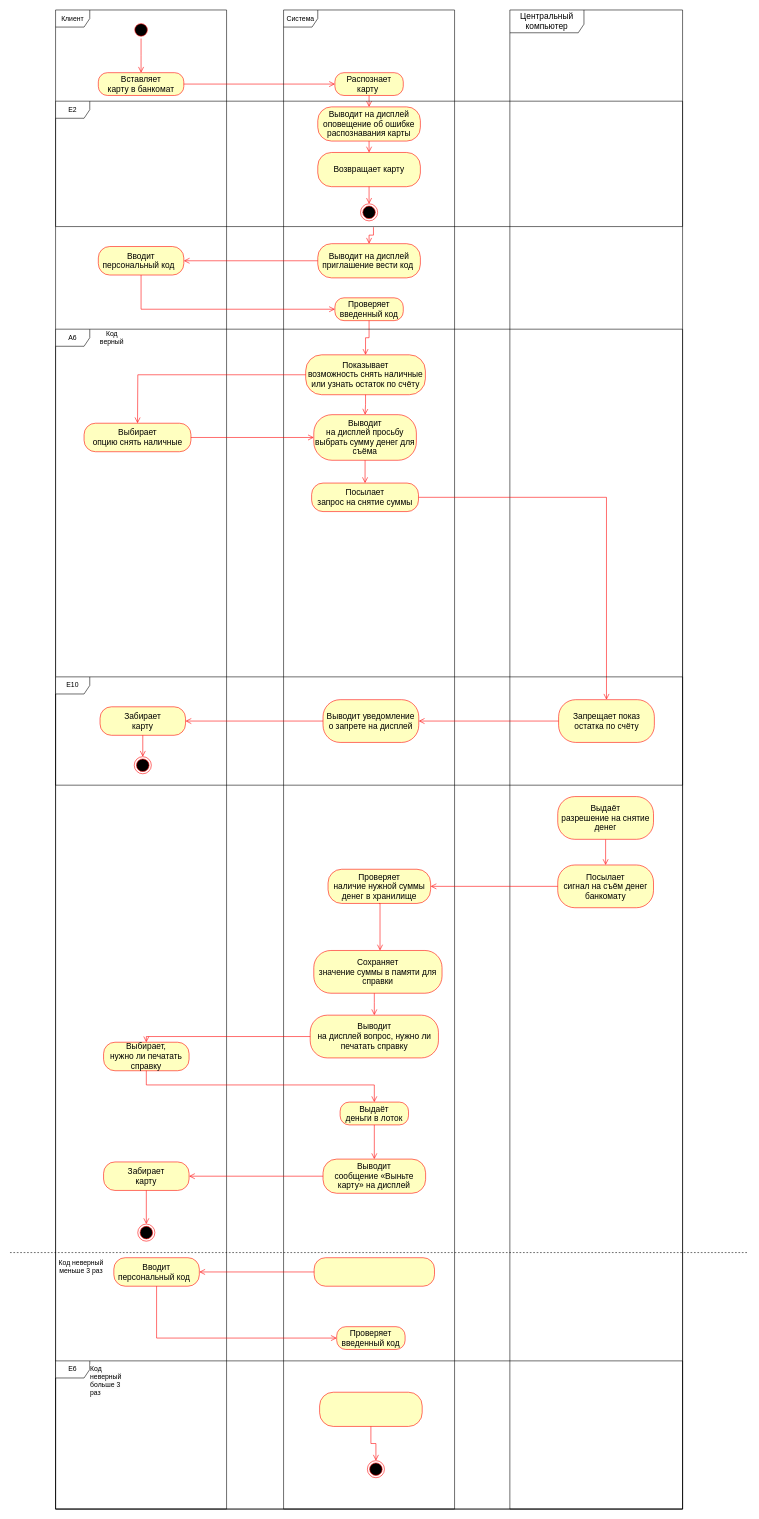
Some shapes in this 759 by 1519 pixel diagram are drawn without their labels. The centre of each missing label's shape, as x and y in pixels:
Карта помещается в хранилище: pixel 370 1409
Просит ввести код заново: pixel 374 1271
